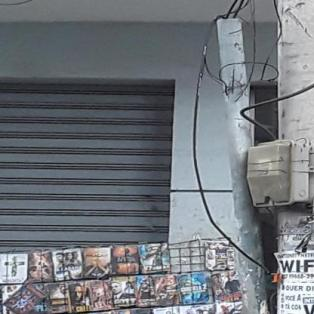Poste: (247, 0, 314, 314)
